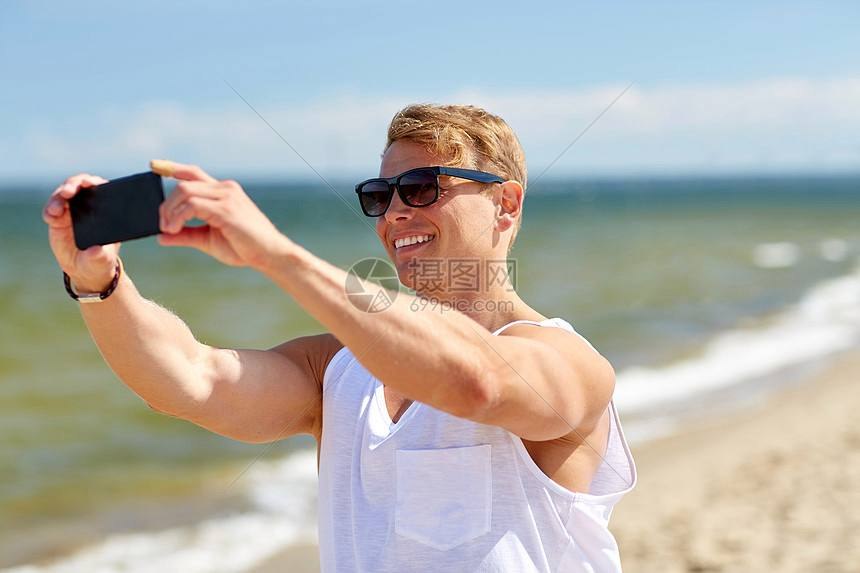taking photos: (38, 153, 296, 285)
